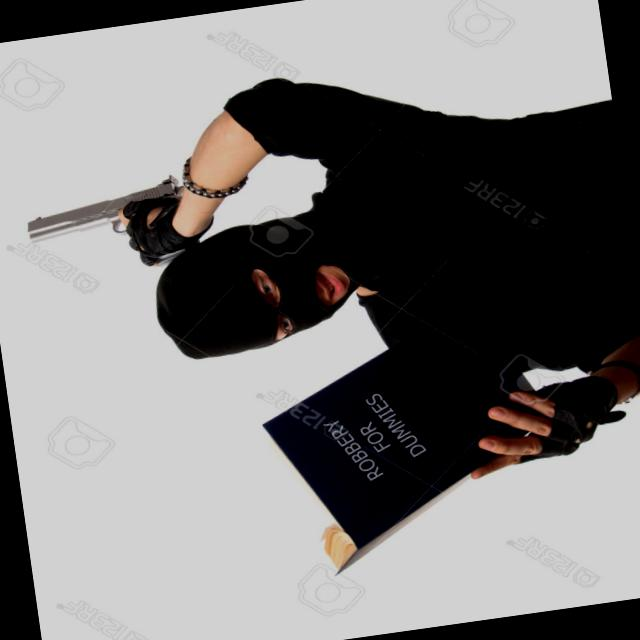handgun: (16, 174, 200, 283)
